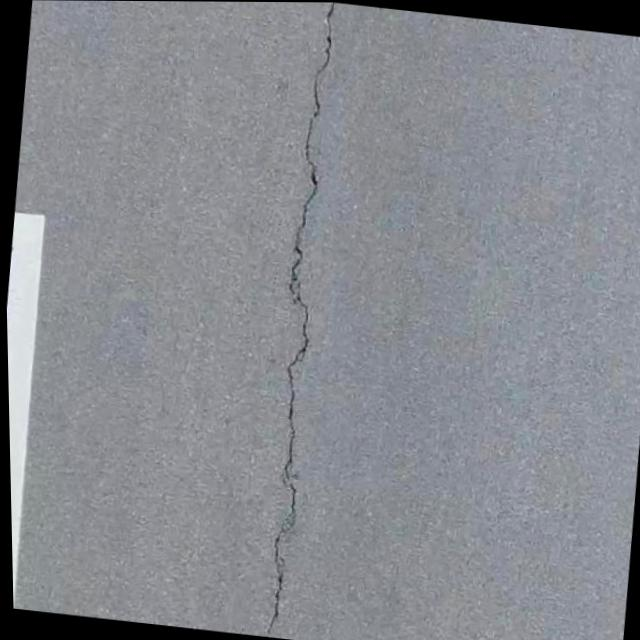Crack: (234, 1, 381, 631)
